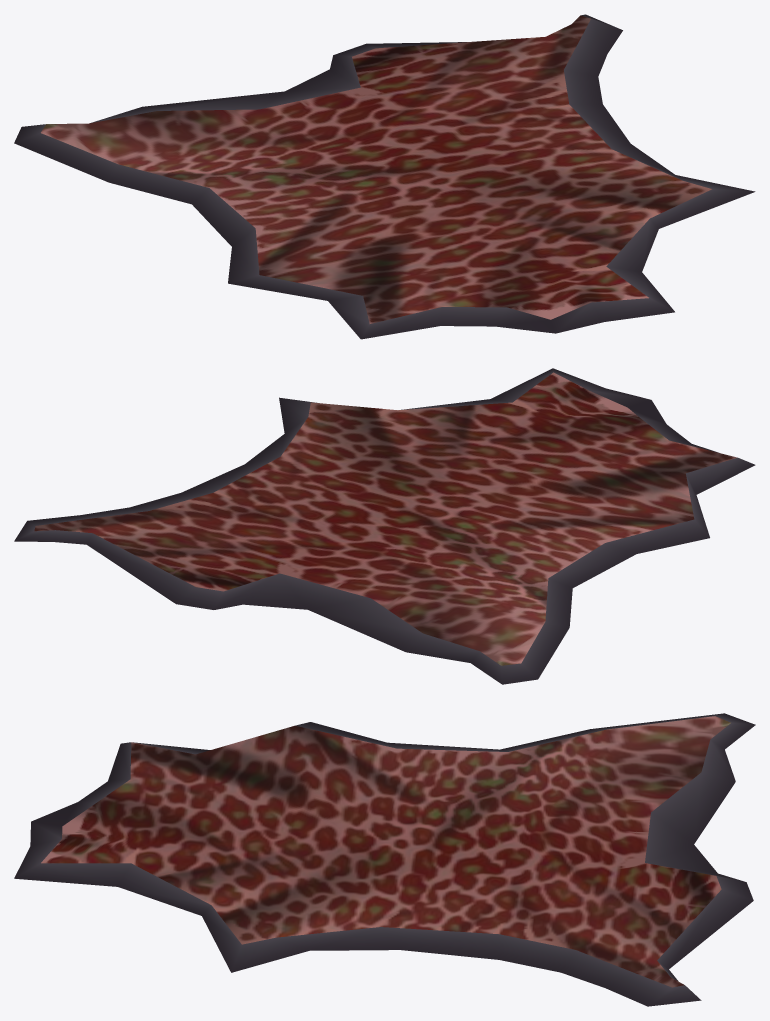
File: Leather_Bed_1C.fbx
3 renders of one model, top to bottom at view 1: azimuth 30°, elevation 25°; view 2: azimuth 150°, elevation 25°; view 3: azimuth 270°, elevation 25°, orthographic. The views are drawn at different scales.
Visible parts, largest first — view 1: Leather_Bed_1C; view 2: Leather_Bed_1C; view 3: Leather_Bed_1C.
Boxes of the visible parts, x1,y1,x2,y2 form: Leather_Bed_1C: (14,14,755,339); Leather_Bed_1C: (14,368,755,684); Leather_Bed_1C: (14,713,755,1006).
Size of the model in its own units: 1.82 by 0.0248 by 1.95.
